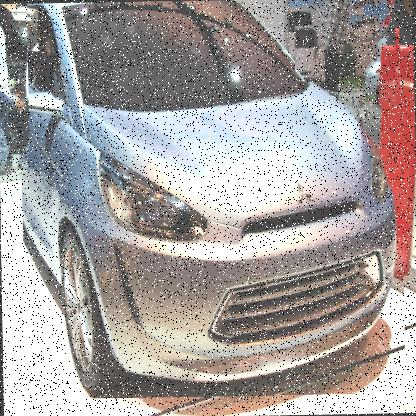Car: (17, 0, 406, 401), (0, 3, 30, 156), (362, 4, 396, 106), (294, 25, 324, 82), (6, 4, 38, 52), (348, 14, 379, 42)
